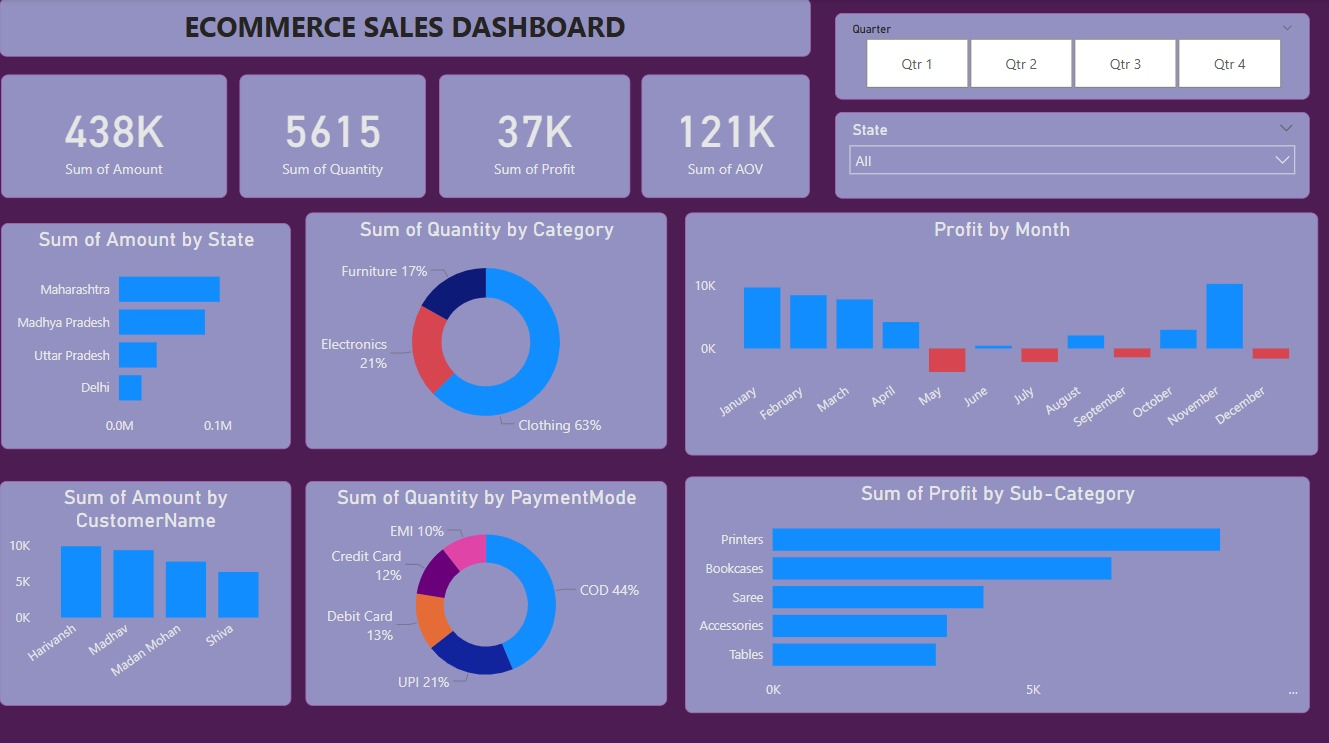

Layout of this report page (visuals, bound fields, positions):
{"tool":"powerbi","page":{"name":"Page 1","canvas":[1280,720],"ordinal":0},"visuals":[{"type":"textbox","box":[9.5,0,774.6,55.7],"z":0},{"type":"columnChart","title":"Profit by Month","fields":{"Category":["Orders.Order Date.Variation.Date Hierarchy.Month"],"Y":["Details.Profit"]},"box":[664.9,205.2,604.4,232.2],"z":1},{"type":"barChart","fields":{"Category":["Details.Sub-Category"],"Y":["Details.Profit"]},"box":[664.9,456.5,596.5,225.9],"z":2},{"type":"donutChart","fields":{"Category":["Details.Category"],"Y":["Details.Quantity"]},"box":[302.2,205.2,345.2,225.9],"z":3},{"type":"donutChart","fields":{"Category":["Details.PaymentMode","Details.Category"],"Y":["Details.Quantity"]},"box":[302.2,461.3,345.2,214.7],"z":4},{"type":"card","fields":{"Values":["Details.Amount"]},"box":[11.1,73.2,216.3,117.7],"z":5},{"type":"card","fields":{"Values":["Details.Quantity"]},"box":[238.6,73.2,178.1,117.7],"z":6},{"type":"card","fields":{"Values":["Details.Profit"]},"box":[429.5,73.2,182.9,117.7],"z":7},{"type":"card","fields":{"Values":["Details.AOV"]},"box":[623.5,73.2,160.7,117.7],"z":8},{"type":"barChart","fields":{"Category":["Orders.State"],"Y":["Details.Amount"]},"box":[11.1,214.7,276.8,216.3],"z":9},{"type":"columnChart","fields":{"Category":["Orders.CustomerName"],"Y":["Details.Amount"]},"box":[9.5,461.3,278.4,214.7],"z":10},{"type":"slicer","fields":{"Values":["Orders.Order Date.Variation.Date Hierarchy.Quarter"]},"box":[808,14.3,453.3,82.7],"z":11},{"type":"slicer","fields":{"Values":["Orders.State"]},"box":[808,108.2,453.3,82.7],"z":12}]}

Visuals, with their boxes in screenshot pixels (x1, y1, x2, y2), scaled from the page's 1280x720 canvas onto the 1329x743 screenshot:
textbox: rect(10, 0, 814, 57)
"Profit by Month" columnChart: rect(690, 212, 1318, 451)
barChart - Details.Sub-Category x Details.Profit: rect(690, 471, 1310, 704)
donutChart - Details.Category x Details.Quantity: rect(314, 212, 672, 445)
donutChart - Details.PaymentMode x Details.Category: rect(314, 476, 672, 698)
card - Details.Amount: rect(12, 76, 236, 197)
card - Details.Quantity: rect(248, 76, 433, 197)
card - Details.Profit: rect(446, 76, 636, 197)
card - Details.AOV: rect(647, 76, 814, 197)
barChart - Orders.State x Details.Amount: rect(12, 222, 299, 445)
columnChart - Orders.CustomerName x Details.Amount: rect(10, 476, 299, 698)
slicer - Orders.Order Date.Variation.Date Hierarchy.Quarter: rect(839, 15, 1310, 100)
slicer - Orders.State: rect(839, 112, 1310, 197)
